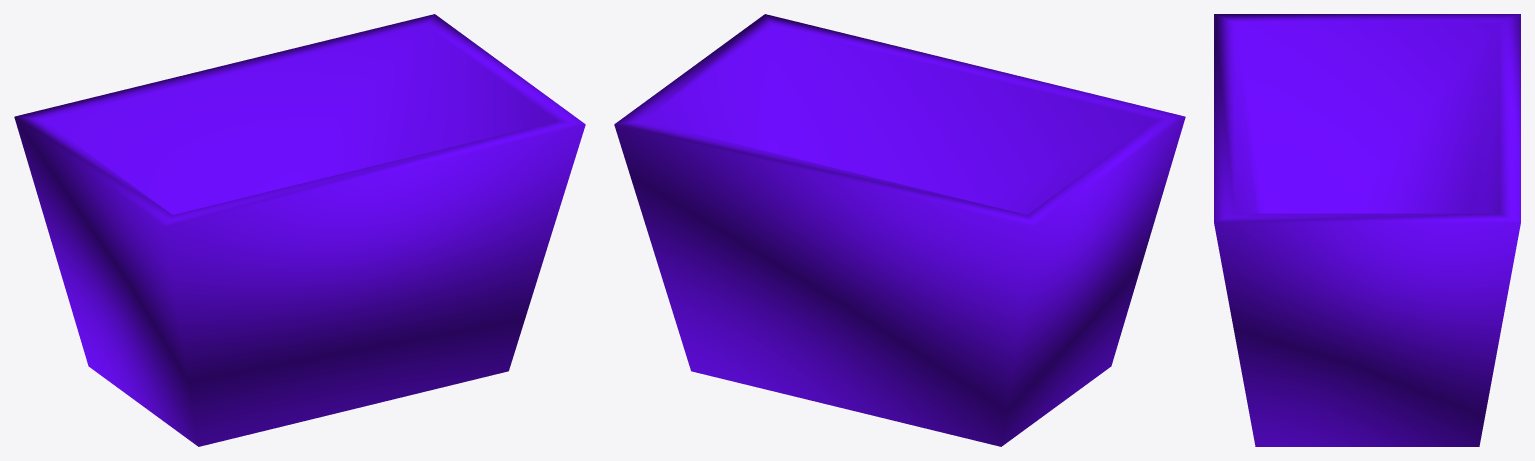
Rendered from retail_shop_workers_shoppingBasket_1_closed_meshCollider.fbx.
3 views of the same model, side by side, from view 1: azimuth 30°, elevation 25°; view 2: azimuth 150°, elevation 25°; view 3: azimuth 270°, elevation 25° (orthographic).
Visible parts, largest first — view 1: retail_shop_workers_shoppingBasket_1_closed_meshCollider; view 2: retail_shop_workers_shoppingBasket_1_closed_meshCollider; view 3: retail_shop_workers_shoppingBasket_1_closed_meshCollider.
Part boxes in pixels (left/top/right/bottom): retail_shop_workers_shoppingBasket_1_closed_meshCollider: left=14, top=14, right=585, bottom=446; retail_shop_workers_shoppingBasket_1_closed_meshCollider: left=614, top=14, right=1185, bottom=446; retail_shop_workers_shoppingBasket_1_closed_meshCollider: left=1214, top=14, right=1520, bottom=446.
Bounding box in the file's own units: 34.73 × 19.56 × 21.58.
